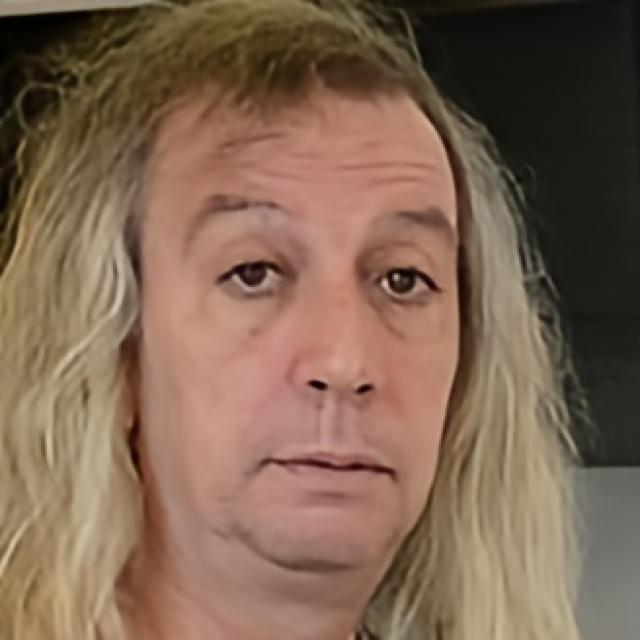surprise: (138, 84, 460, 572)
